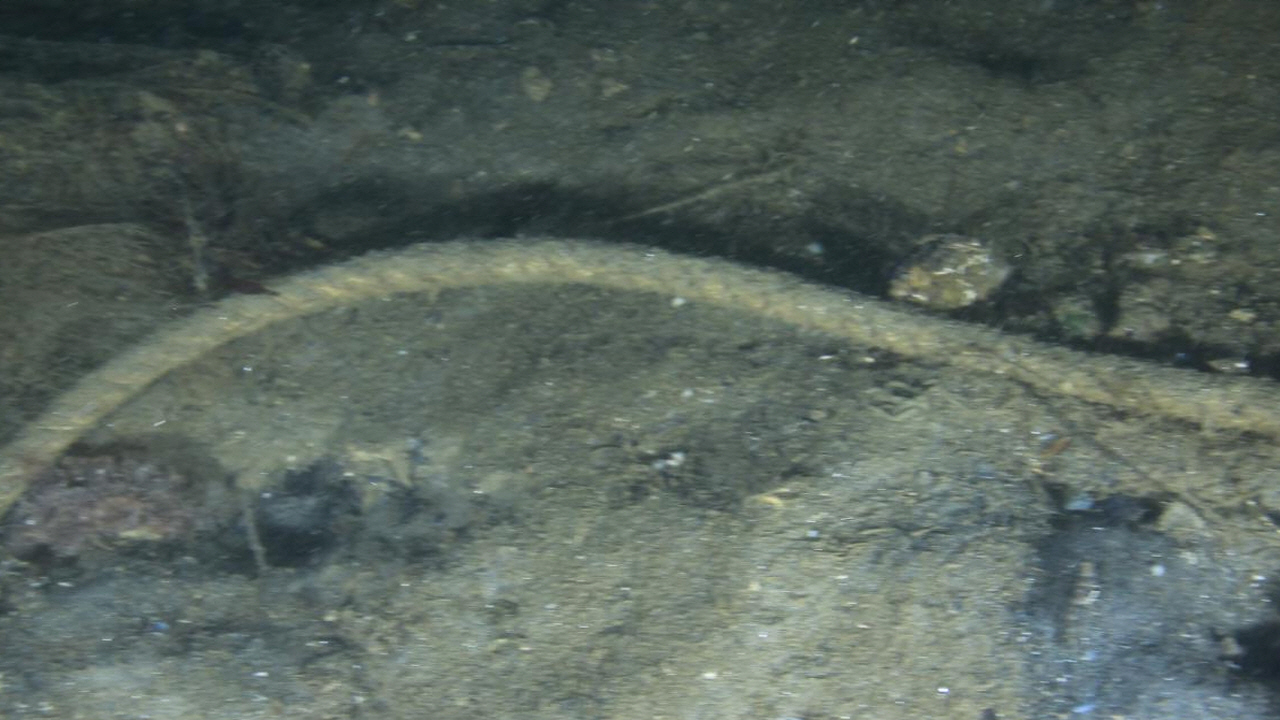rope: (0, 236, 1280, 519)
